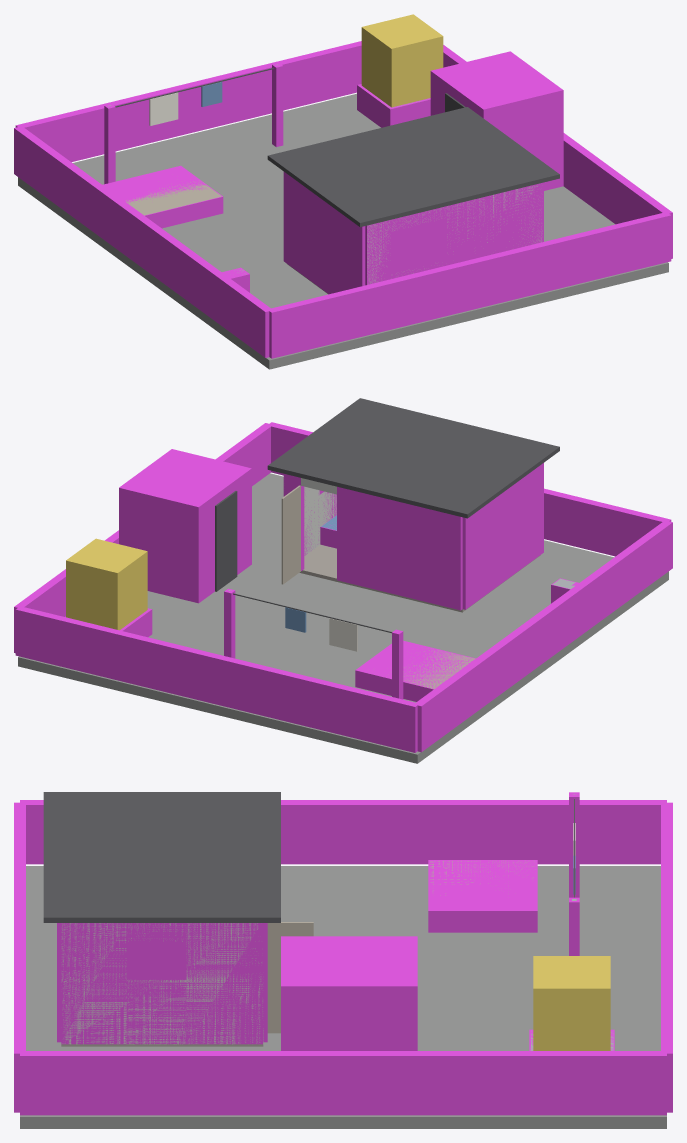
The model's file is prologue_rooftop_blockout.glb.
3 renders of one model, top to bottom at view 1: azimuth 30°, elevation 25°; view 2: azimuth 150°, elevation 25°; view 3: azimuth 270°, elevation 25°, orthographic. The views are drawn at different scales.
Visible parts, largest first — view 1: slab, col_parapet_s_0, roof_cap, col_parapet_n_0, col_parapet_w_0, col_room_ws_1, col_stair_house, col_room_ww_0, water_tank, col_parapet_e_0, col_pyeongsang, col_tank_stand (+4 smaller); view 2: slab, col_parapet_n_0, roof_cap, col_stair_house, col_parapet_w_0, col_room_wn_0, col_room_ww_0, water_tank, col_parapet_s_0, col_pyeongsang, col_parapet_e_0, stair_door (+10 smaller); view 3: slab, col_parapet_e_0, roof_cap, col_parapet_w_0, col_room_we_1, col_stair_house, col_pyeongsang, water_tank, room_we_s1, room_we_s0, col_parapet_s_0, col_parapet_n_0 (+7 smaller).
Part boxes in pixels (left/top/right/bottom): slab: left=18, top=93, right=668, bottom=369; col_parapet_s_0: left=267, top=212, right=671, bottom=358; roof_cap: left=267, top=107, right=559, bottom=227; col_parapet_n_0: left=15, top=41, right=361, bottom=162; col_parapet_w_0: left=14, top=126, right=272, bottom=357; col_room_ws_1: left=365, top=183, right=542, bottom=285; col_stair_house: left=430, top=51, right=563, bottom=190; col_room_ww_0: left=283, top=171, right=365, bottom=294; water_tank: left=361, top=14, right=443, bottom=107; col_parapet_e_0: left=443, top=45, right=672, bottom=258; col_pyeongsang: left=102, top=165, right=223, bottom=228; col_tank_stand: left=357, top=84, right=430, bottom=127; slab: left=18, top=473, right=668, bottom=763; col_parapet_n_0: left=15, top=606, right=419, bottom=752; roof_cap: left=267, top=398, right=559, bottom=518; col_stair_house: left=119, top=449, right=251, bottom=603; col_parapet_w_0: left=414, top=521, right=672, bottom=752; col_room_wn_0: left=337, top=486, right=462, bottom=610; col_room_ww_0: left=462, top=463, right=543, bottom=609; water_tank: left=66, top=538, right=147, bottom=630; col_parapet_s_0: left=267, top=422, right=671, bottom=556; col_pyeongsang: left=355, top=640, right=475, bottom=701; col_parapet_e_0: left=14, top=423, right=272, bottom=653; stair_door: left=215, top=491, right=237, bottom=591; slab: left=20, top=866, right=666, bottom=1128; col_parapet_e_0: left=20, top=1051, right=666, bottom=1115; roof_cap: left=43, top=792, right=280, bottom=922; col_parapet_w_0: left=20, top=800, right=666, bottom=864; col_room_we_1: left=61, top=923, right=263, bottom=1044; col_stair_house: left=281, top=936, right=417, bottom=1050; col_pyeongsang: left=428, top=860, right=537, bottom=932; water_tank: left=533, top=956, right=610, bottom=1050; room_we_s1: left=186, top=923, right=263, bottom=1044; room_we_s0: left=61, top=923, right=126, bottom=1044; col_parapet_s_0: left=14, top=802, right=25, bottom=1112; col_parapet_n_0: left=661, top=802, right=672, bottom=1112.
Bounding box in the file's own units: 10.2 × 2.76 × 11.1.
